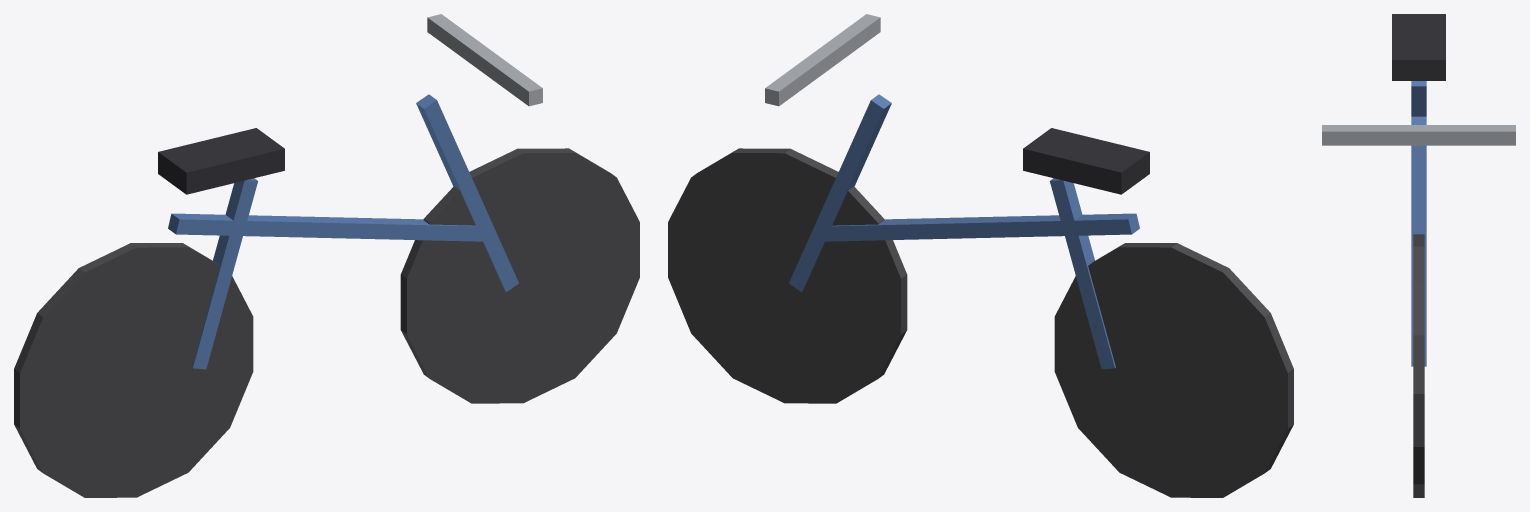
File: Bisiklet.glb
3 renders of one model, left to right at view 1: azimuth 30°, elevation 25°; view 2: azimuth 150°, elevation 25°; view 3: azimuth 270°, elevation 25°, orthographic. The views are drawn at different scales.
Visible parts, largest first — view 1: Bisiklet; view 2: Bisiklet; view 3: Bisiklet.
Part boxes in pixels (box(x1,y1,x2,y2)): Bisiklet: box(14, 14, 639, 497); Bisiklet: box(668, 14, 1293, 497); Bisiklet: box(1322, 14, 1515, 497).
Size of the model in its own units: 1.76 by 0.97 by 0.5.
